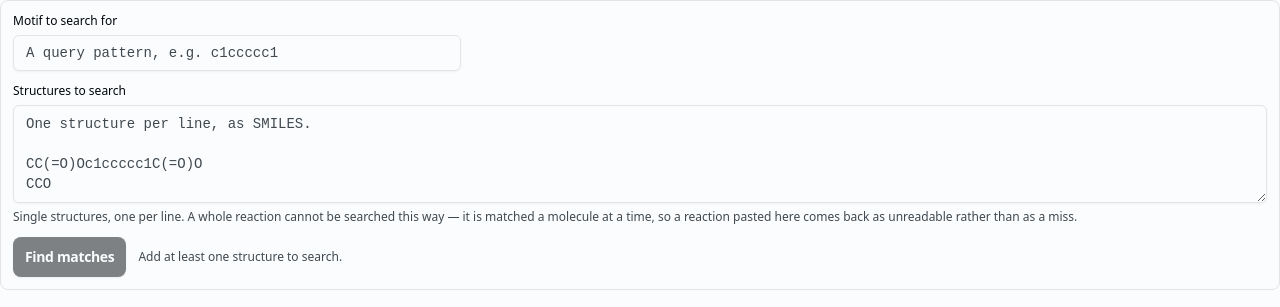
Test: SubstructureQueryPanel › will not search with no pattern or no structures
Expected: the button "Find matches" is disabled, [13,237,126,277]
Type "c1ccccc1" into the field labelled "Motif to search for" at (237, 53), box [13,35,461,71]
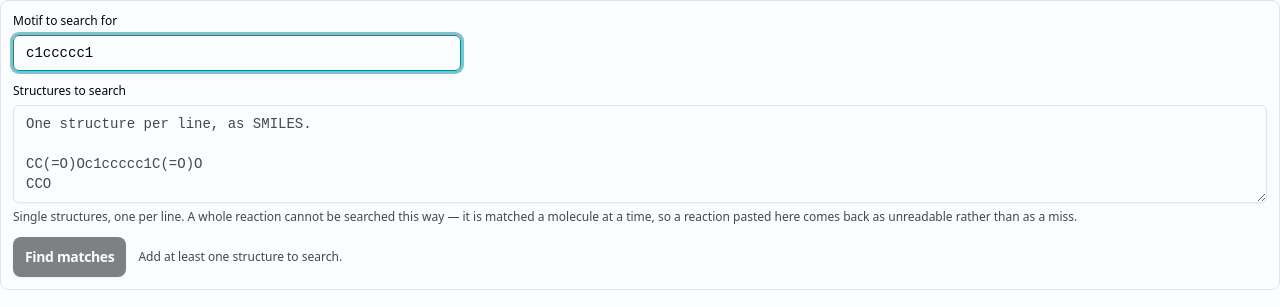
Expected: the button "Find matches" is disabled, [13,237,126,277]
Type "CCO" into the text box labelled "Structures to search" at (640, 154), box [13,105,1267,203]
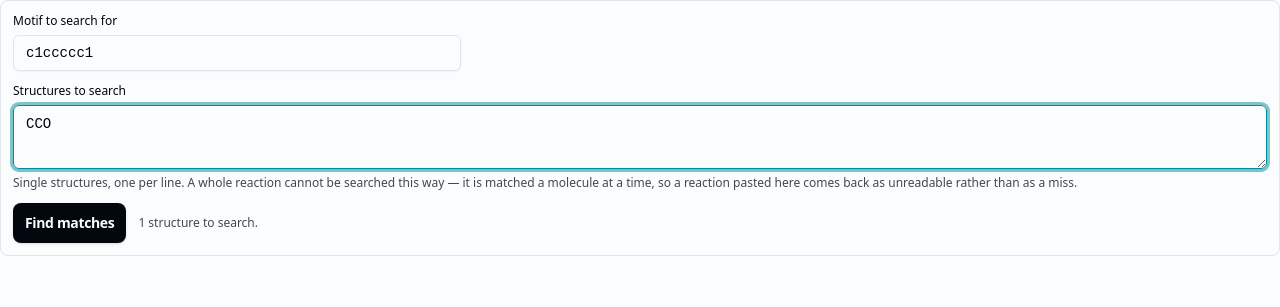
Expected: the button "Find matches" is enabled, [13,203,126,243]
